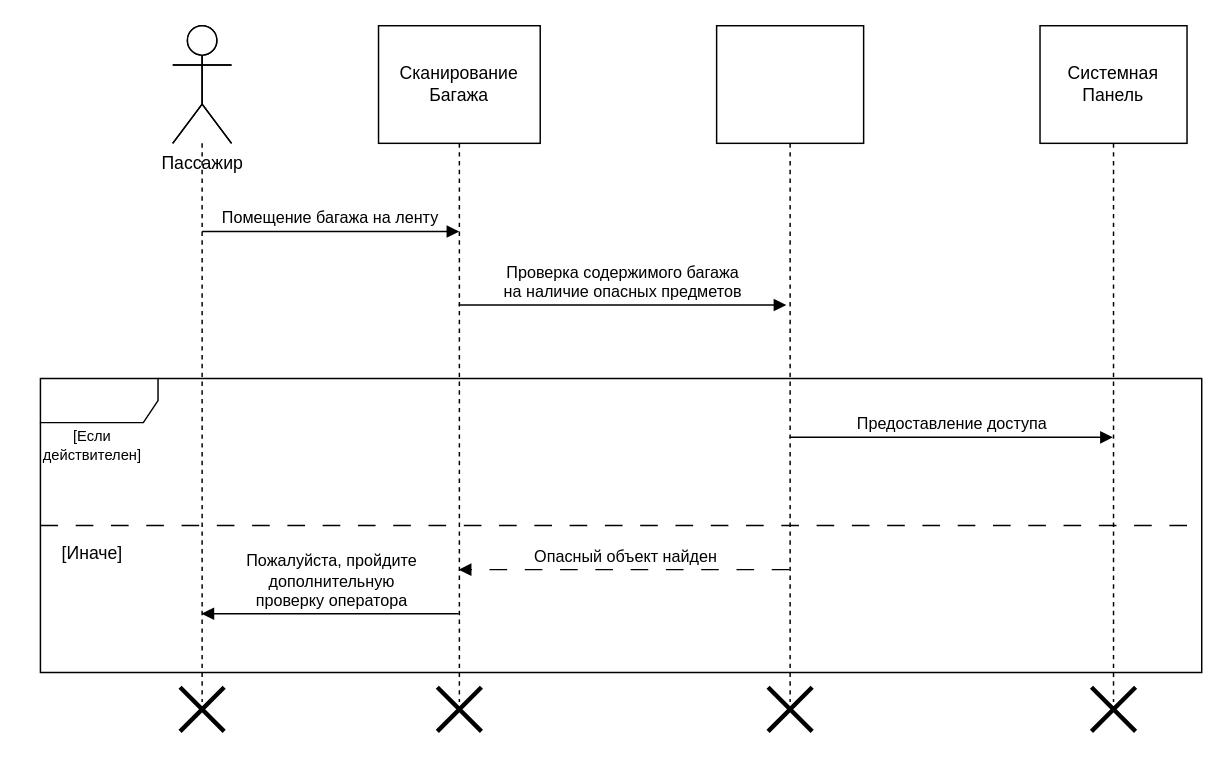
This 1227x759 diagram has some shape labels left out. Each missing label, with the box of its shape:
Альтернатива: (39, 377, 1202, 673)
Нейронная Сеть: (715, 24, 864, 702)
